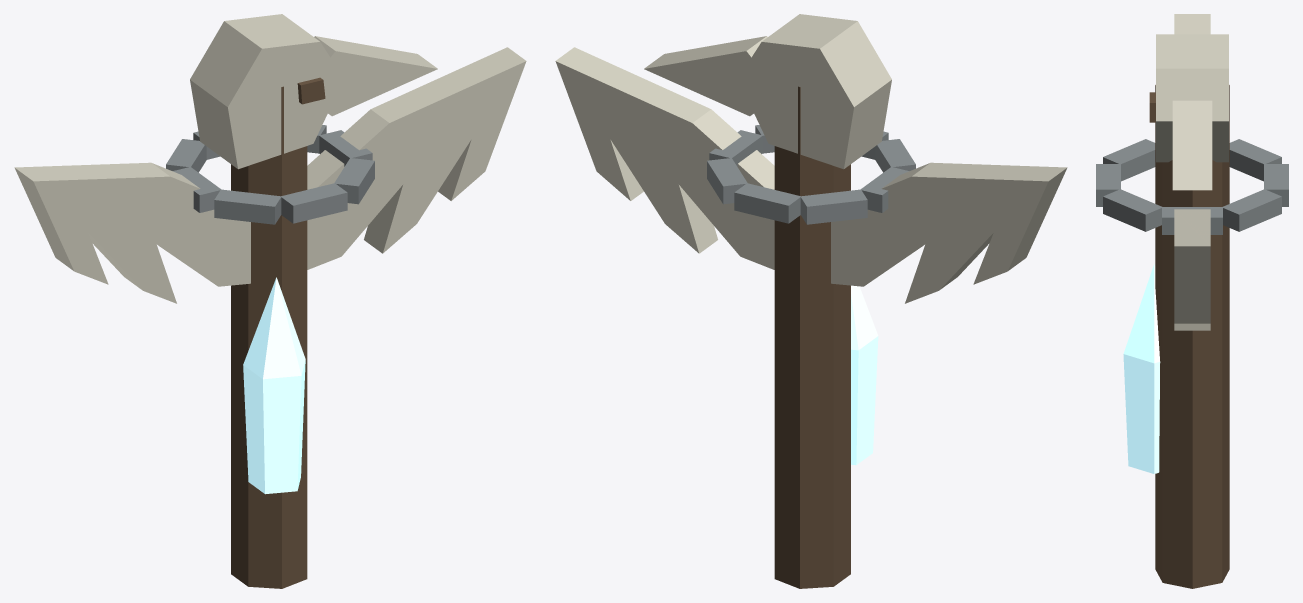
The model's file is spirit-fetish-raven.glb.
The picture shows the model from 3 angles, left to right: view 1: azimuth 30°, elevation 25°; view 2: azimuth 150°, elevation 25°; view 3: azimuth 270°, elevation 25°; orthographic projection. The views are drawn at different scales.
Visible parts, largest first — view 1: right-wing, left-wing, spine, raven-skull, spirit-chip, beak, binding-3, binding-2, binding-1, binding-5, binding-0, binding-4; view 2: spine, right-wing, left-wing, raven-skull, beak, spirit-chip, binding-5, binding-6, binding-7, binding-3, binding-0, binding-4; view 3: spine, raven-skull, spirit-chip, right-wing, beak, binding-1, binding-7, binding-3, binding-5, binding-0, binding-2, binding-6 (+1 smaller).
Boxes of the visible parts, x1,y1,x2,y2 form: right-wing: [307, 47, 526, 269]; left-wing: [14, 162, 250, 303]; spine: [231, 86, 307, 588]; raven-skull: [190, 14, 343, 169]; spirit-chip: [243, 277, 305, 494]; beak: [314, 36, 437, 116]; binding-3: [214, 189, 281, 224]; binding-2: [281, 183, 347, 223]; binding-1: [334, 158, 374, 204]; binding-5: [166, 139, 206, 172]; binding-0: [319, 130, 372, 166]; binding-4: [173, 167, 221, 212]; spine: [774, 86, 850, 588]; right-wing: [555, 47, 774, 269]; left-wing: [831, 162, 1067, 303]; raven-skull: [738, 14, 891, 169]; beak: [644, 36, 767, 116]; spirit-chip: [851, 285, 878, 465]; binding-5: [800, 189, 867, 224]; binding-6: [734, 183, 800, 223]; binding-7: [707, 158, 747, 204]; binding-3: [875, 139, 915, 172]; binding-0: [709, 130, 762, 166]; binding-4: [860, 167, 908, 212]; spine: [1155, 85, 1229, 588]; raven-skull: [1156, 34, 1228, 162]; spirit-chip: [1123, 264, 1160, 473]; right-wing: [1174, 209, 1210, 330]; beak: [1172, 100, 1212, 190]; binding-1: [1103, 189, 1162, 231]; binding-7: [1223, 189, 1281, 231]; binding-3: [1103, 139, 1155, 181]; binding-5: [1229, 139, 1281, 181]; binding-0: [1162, 207, 1222, 234]; binding-2: [1096, 164, 1120, 206]; binding-6: [1264, 164, 1288, 206].
Bounding box in the file's own units: 0.72 × 0.76 × 0.2525.
